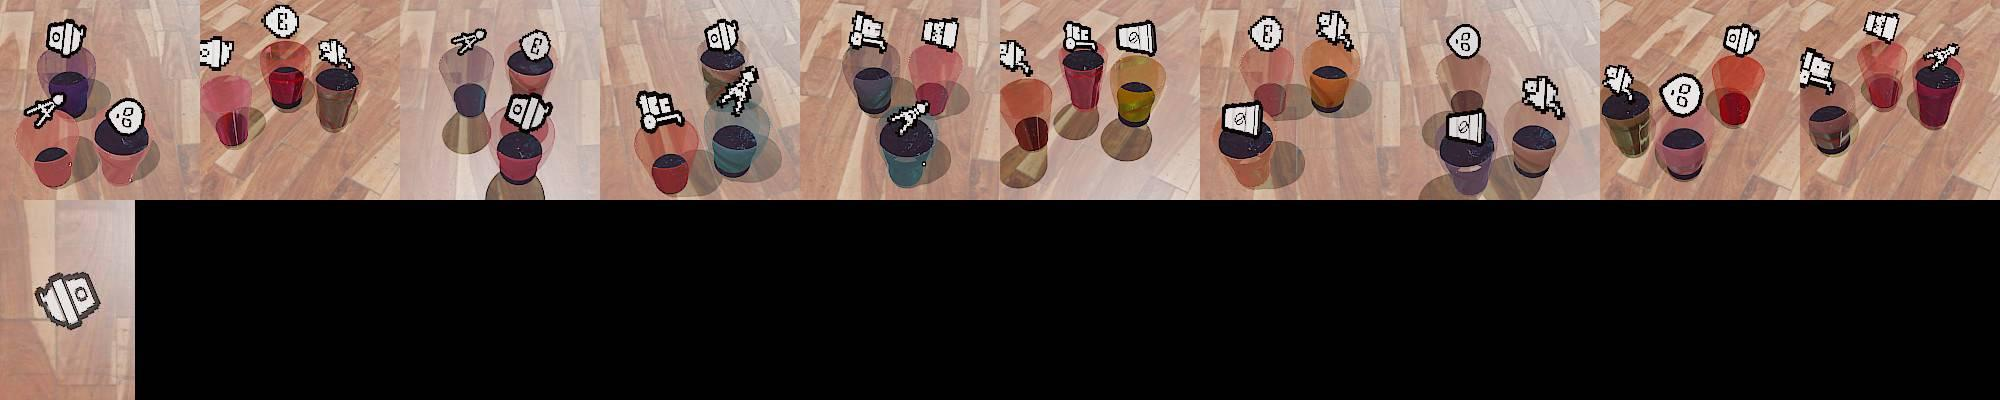icon: (33, 270, 102, 331), (716, 63, 760, 117), (1659, 72, 1705, 119), (634, 89, 684, 132), (1520, 73, 1566, 118), (505, 92, 553, 133), (1797, 47, 1838, 92), (1220, 100, 1264, 141), (46, 19, 87, 59), (849, 9, 887, 52), (106, 97, 146, 137), (1114, 20, 1156, 58), (1445, 107, 1485, 146), (23, 94, 67, 128), (1248, 15, 1286, 54), (1316, 9, 1352, 50), (262, 3, 301, 40), (704, 17, 742, 54), (1446, 23, 1482, 61), (1722, 22, 1761, 57), (999, 39, 1033, 79), (889, 101, 929, 135), (198, 35, 235, 71), (1862, 10, 1901, 43), (921, 17, 959, 50), (518, 28, 553, 63), (1921, 43, 1960, 74), (1602, 63, 1635, 99), (1062, 20, 1096, 54), (450, 28, 487, 56), (317, 38, 350, 69)
